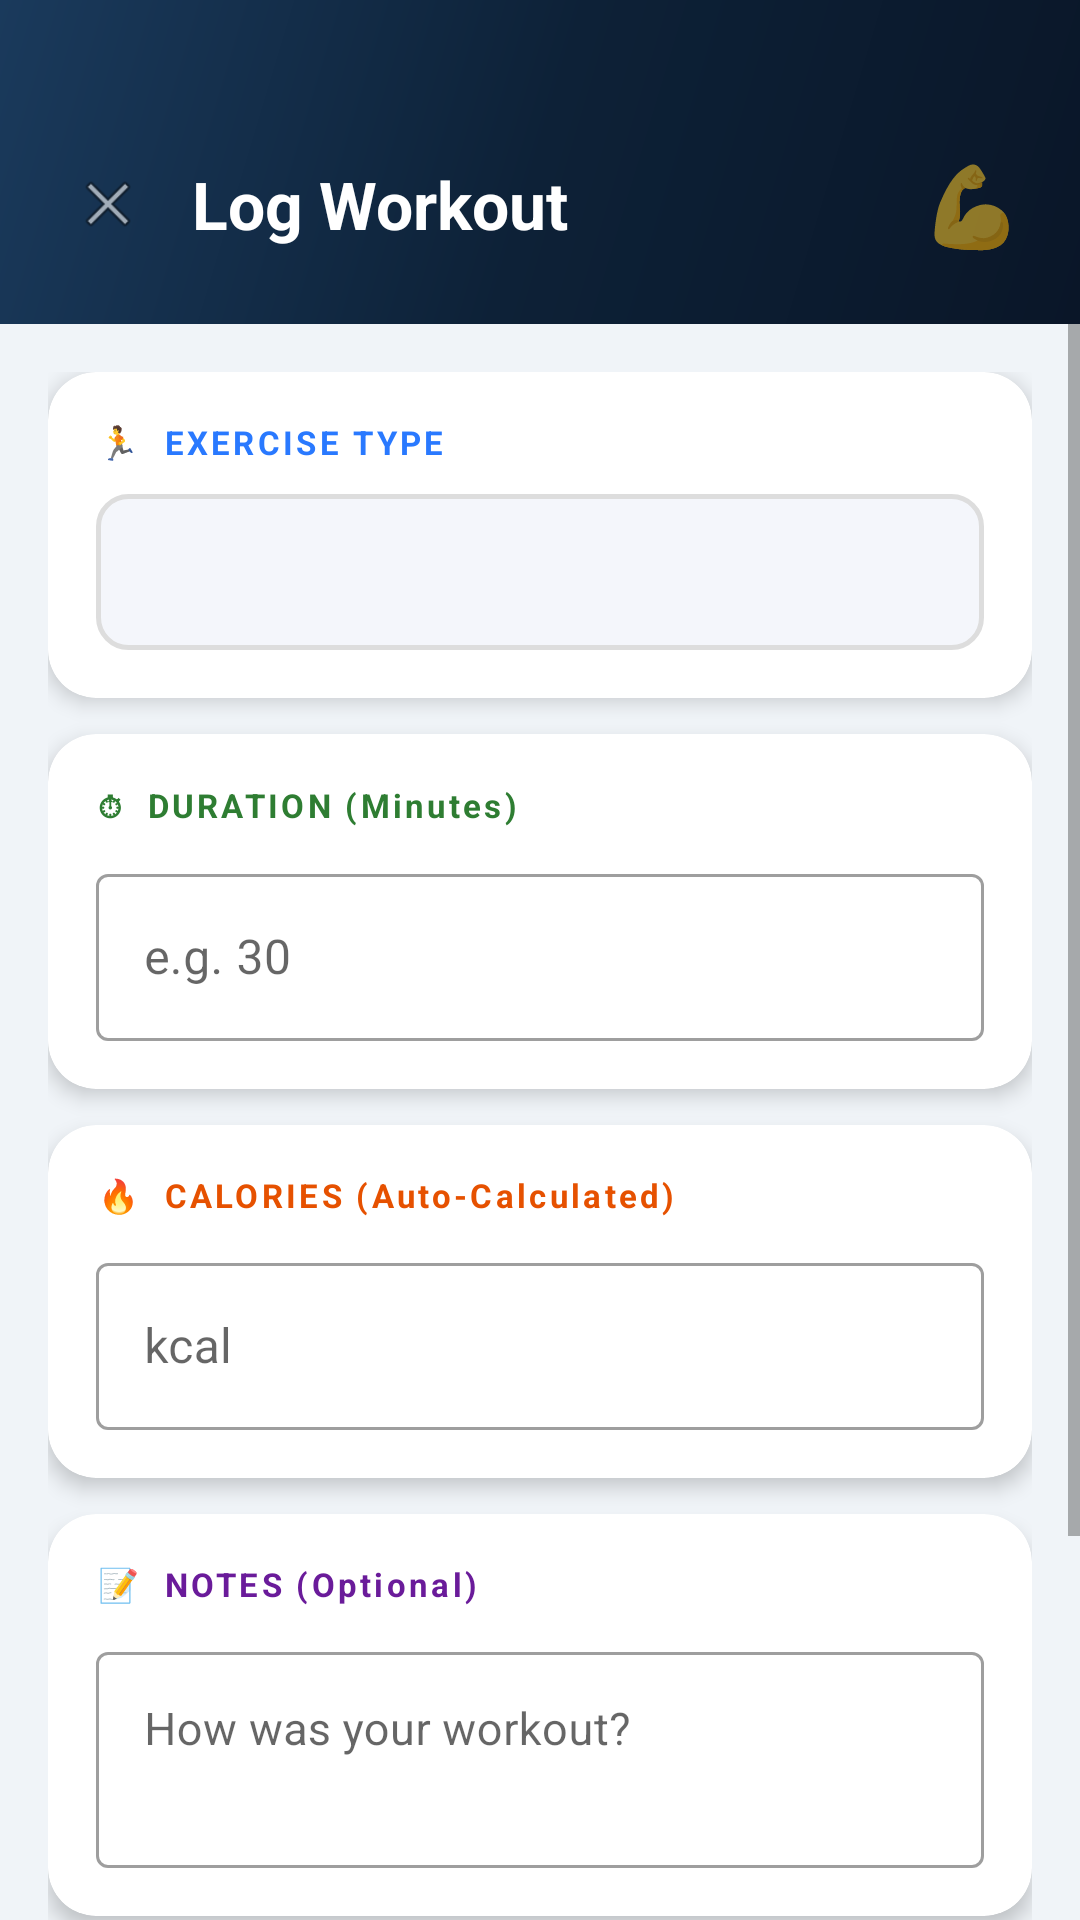

Named icons in this screenshot (1080 × 1920) and their bounding boxes, (x1,y1,x2,y2):
close clear cancel: (86,182,130,226)
